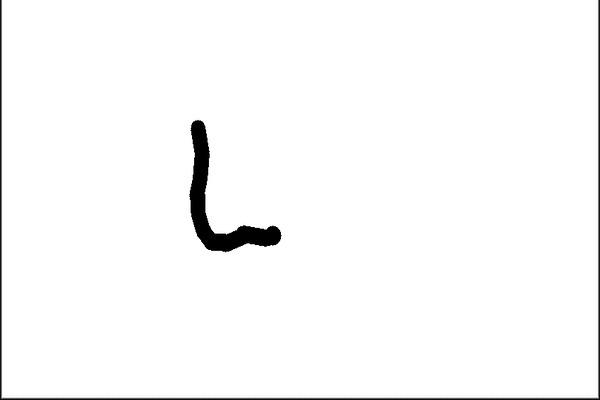L: (178, 115, 284, 258)
